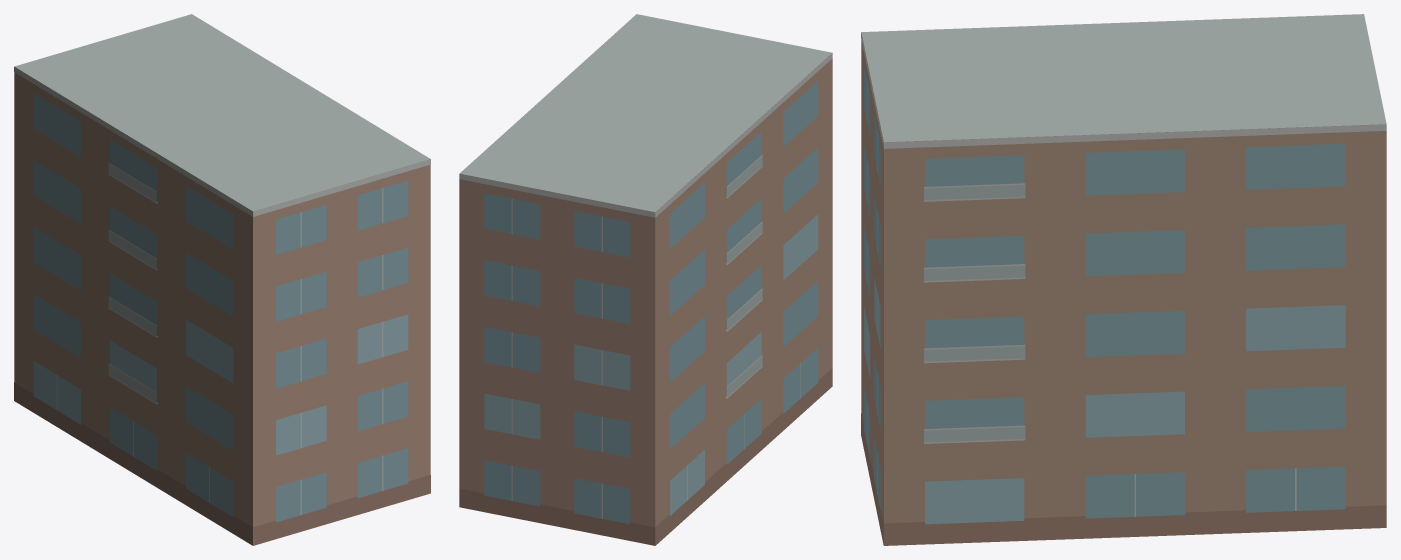
Rendered from survey-upis-32637211.glb.
3 views of the same model, side by side, from view 1: azimuth 30°, elevation 25°; view 2: azimuth 150°, elevation 25°; view 3: azimuth 270°, elevation 25° (orthographic). The views are drawn at different scales.
Parts seen in each view (by area): view 1: survey-upis-32637211.tmp; view 2: survey-upis-32637211.tmp; view 3: survey-upis-32637211.tmp.
Part boxes in pixels (x1,y1,x2,y2): survey-upis-32637211.tmp: (14, 14, 430, 545); survey-upis-32637211.tmp: (459, 14, 832, 545); survey-upis-32637211.tmp: (861, 14, 1386, 545).
Bounding box in the file's own units: 10.09 × 14.8 × 17.47.
